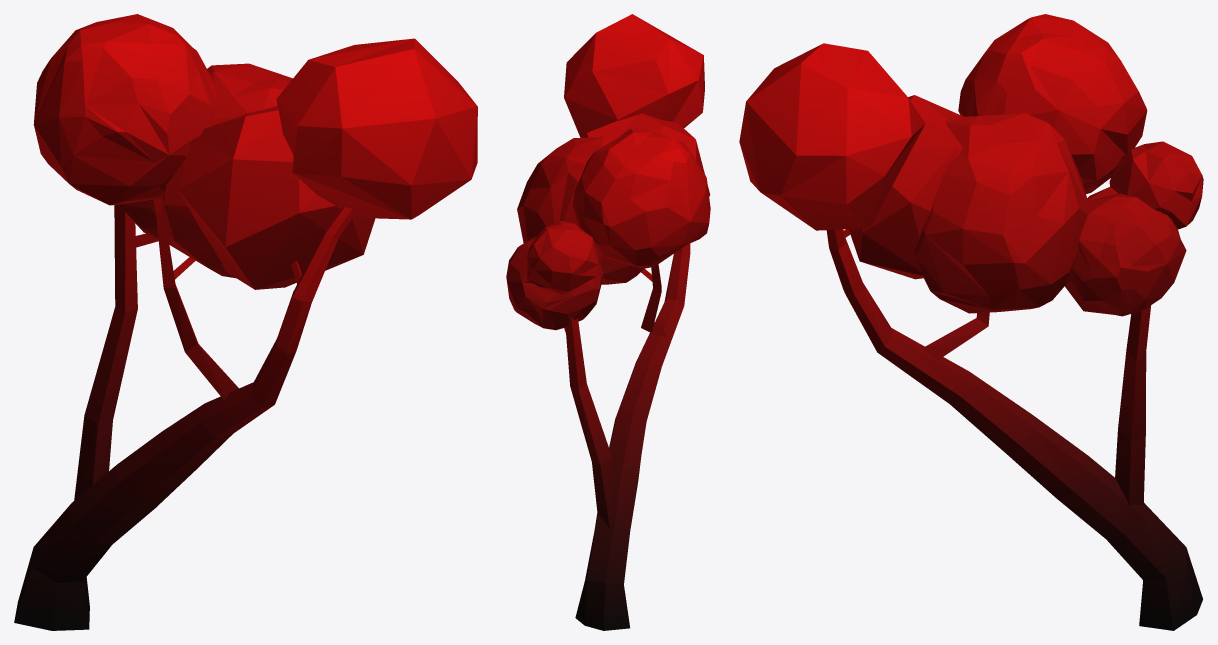
Rendered from TreeBent02.fbx.
3 renders of one model, left to right at view 1: azimuth 30°, elevation 25°; view 2: azimuth 150°, elevation 25°; view 3: azimuth 270°, elevation 25°, orthographic. The views are drawn at different scales.
Visible parts, largest first — view 1: TreeBent02_LOD0; view 2: TreeBent02_LOD0; view 3: TreeBent02_LOD0.
Boxes of the visible parts, x1,y1,x2,y2 form: TreeBent02_LOD0: [14, 14, 477, 630]; TreeBent02_LOD0: [506, 14, 710, 630]; TreeBent02_LOD0: [739, 14, 1203, 630].
Size of what is drawn, in the model's own units: 578 by 1244 by 836.
